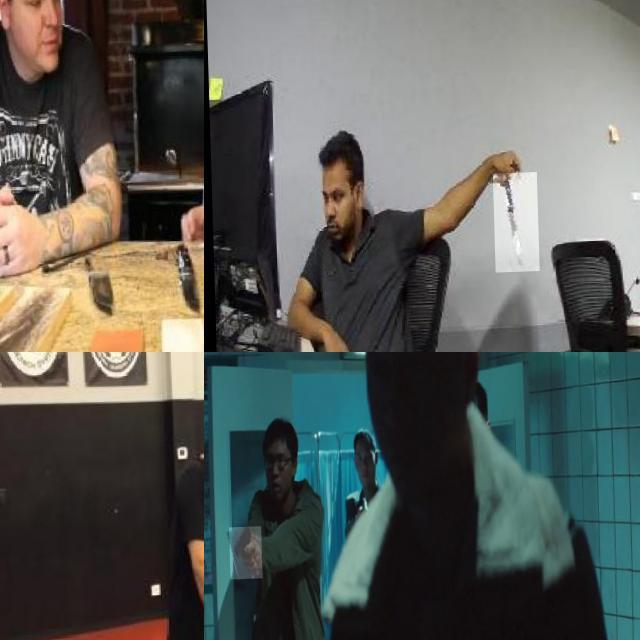-: (491, 174, 537, 275)
gun-knife-thesis - v11 Yolov5 augmented: (227, 528, 261, 580)
